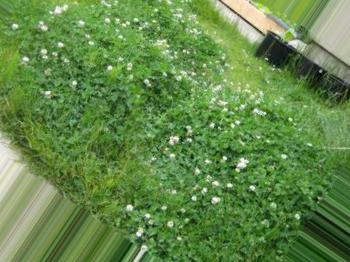patch: (96, 156, 131, 191), (210, 29, 240, 56), (230, 58, 258, 84), (265, 85, 288, 112)
